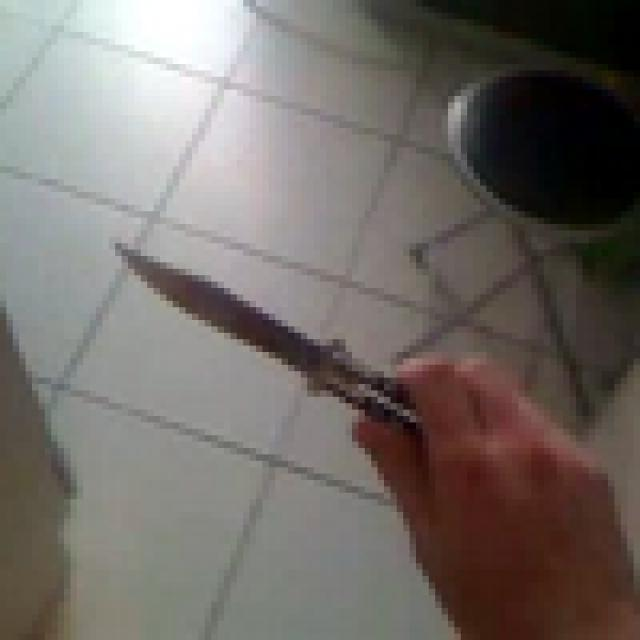knife: (109, 192, 500, 538)
